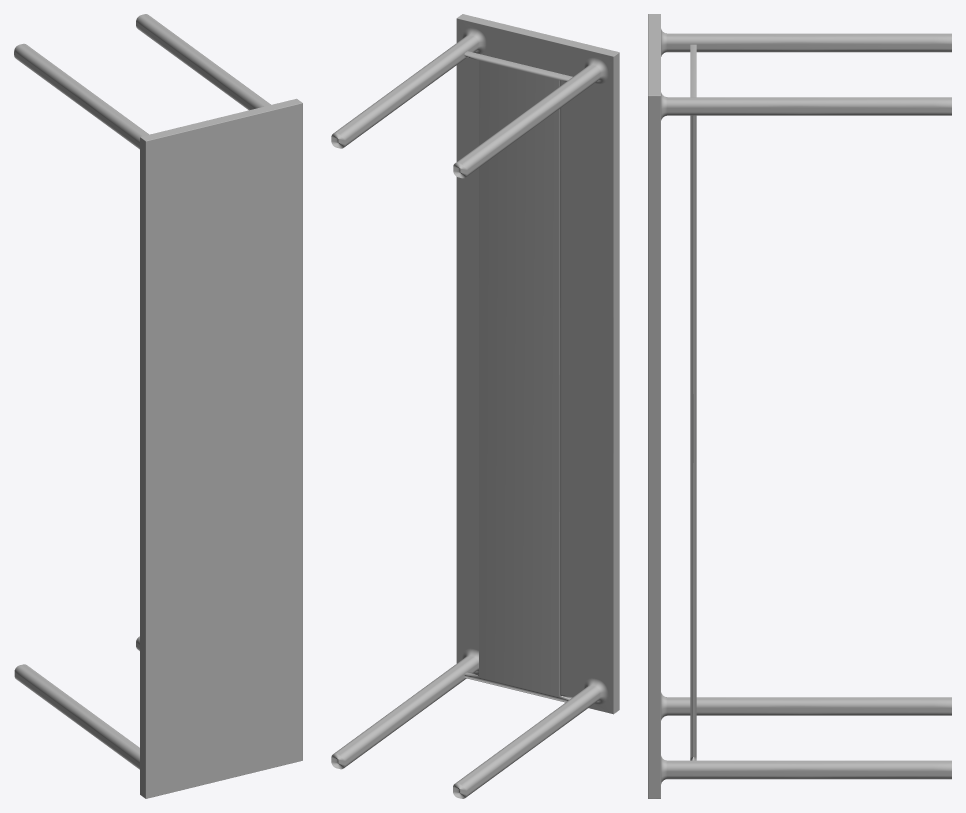
File: long_desk.dae
3 views of the same model, side by side, from view 1: azimuth 30°, elevation 25°; view 2: azimuth 150°, elevation 25°; view 3: azimuth 270°, elevation 25° (orthographic). The views are drawn at different scales.
Parts seen in each view (by area): view 1: transform1; view 2: transform1; view 3: transform1.
Boxes of the visible parts, x1,y1,x2,y2 form: transform1: (14,14,302,798); transform1: (331,14,619,798); transform1: (648,14,951,798).
Bounding box in the file's own units: 0.45 × 1.8 × 0.705.
Materials: 1 (1 with a texture image).
